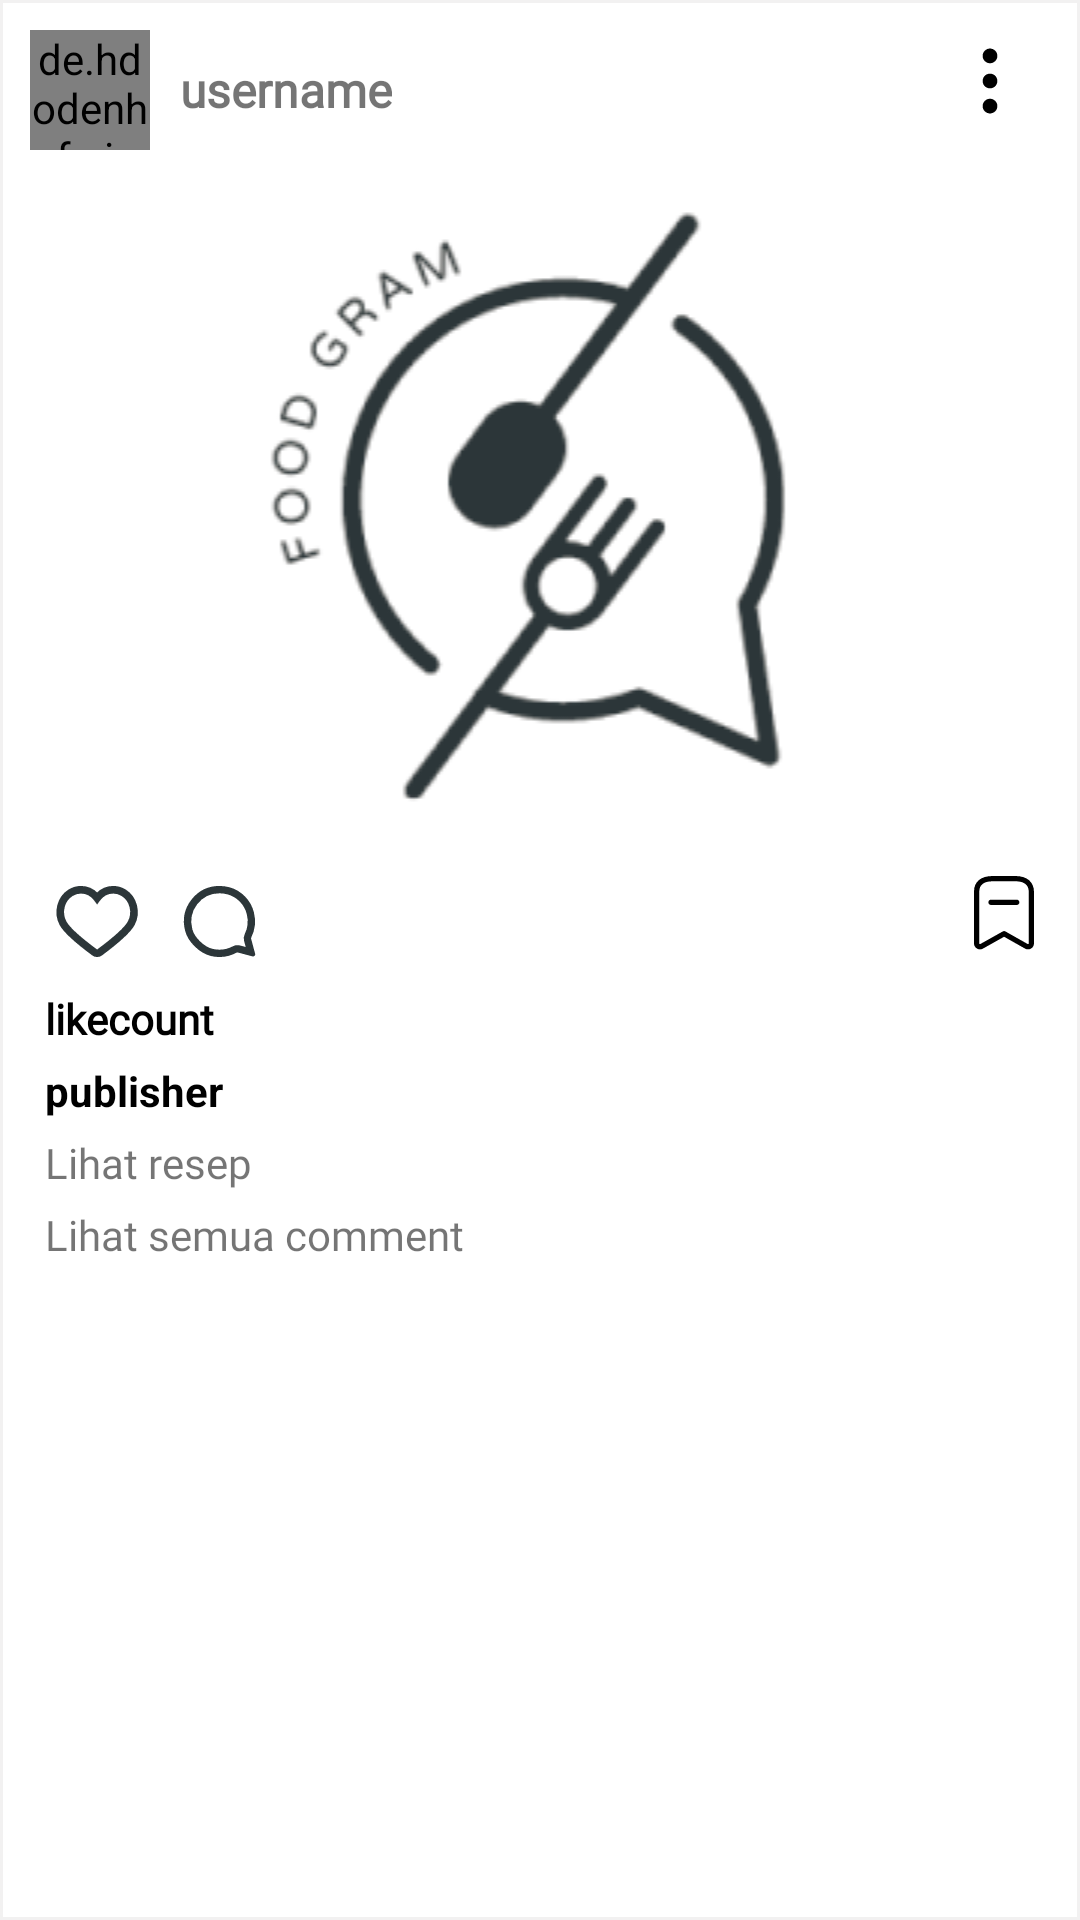

Screen size 1080w x 1920h. Icon name, then its center in pixels as point (x, y):
bookmark: point (1004, 913)
comment: point (219, 921)
heart: point (97, 921)
verticalthreedots: point (990, 81)
